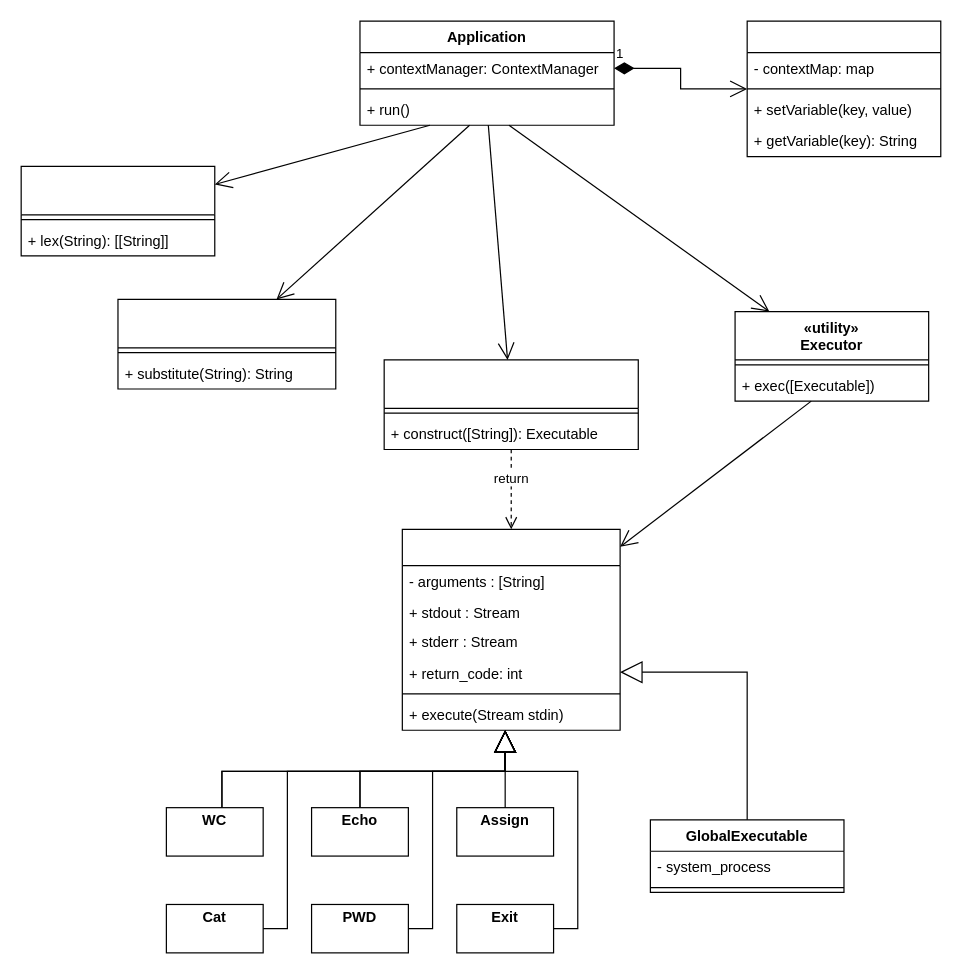
This 962x974 diagram has some shape labels left out. Here are the shapes that lost their labels. From the top down, the box of each, then its label:
(746, 20, 941, 157): ContextManager
(20, 165, 215, 256): «utility» Lexer
(117, 298, 336, 389): «utility» Substituter
(383, 359, 638, 450): «utility» Constructor
(401, 528, 620, 730): Executable
